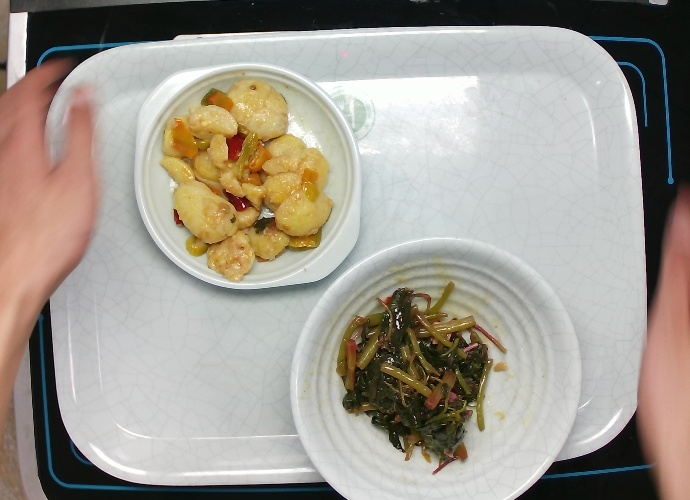JYsf-Shuang_Er_Pan: (129, 59, 365, 295)
JYsf-Xiao_Tang_Wan: (288, 231, 580, 498)
